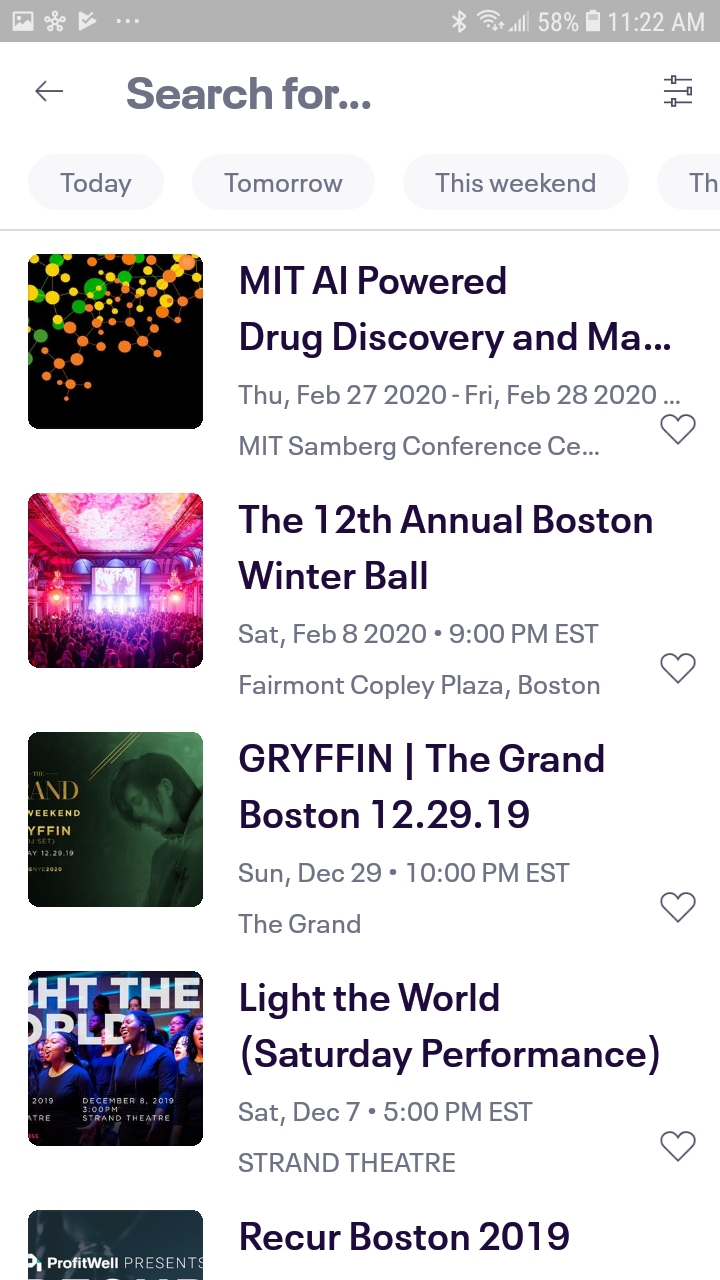Icon: (659, 1130, 697, 1163), (660, 891, 697, 924), (660, 652, 697, 685), (660, 414, 697, 446), (663, 76, 692, 108), (36, 82, 64, 103)
Image: (28, 971, 204, 1147), (29, 493, 205, 669), (29, 732, 205, 907), (29, 255, 204, 430), (28, 1209, 205, 1280)
Text: (240, 266, 671, 360), (241, 982, 660, 1076), (238, 504, 652, 591), (240, 742, 605, 829), (238, 384, 680, 411), (240, 1221, 570, 1251), (240, 674, 600, 700), (238, 623, 598, 649), (239, 435, 599, 461), (239, 862, 571, 888), (127, 77, 371, 111), (239, 1101, 534, 1127), (239, 1153, 456, 1173), (238, 913, 361, 934)
TextButton: (403, 155, 630, 212), (192, 154, 376, 212), (28, 155, 166, 212), (656, 154, 720, 212)
UpperTaskBar: (1, 1, 720, 43)
